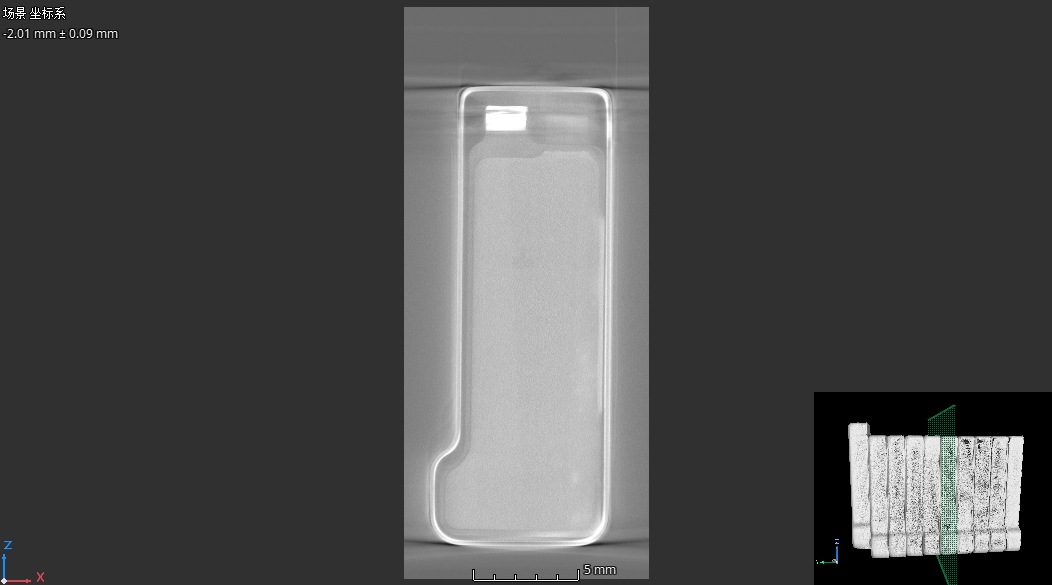dark: (513, 249, 528, 268)
light: (569, 470, 580, 486)
